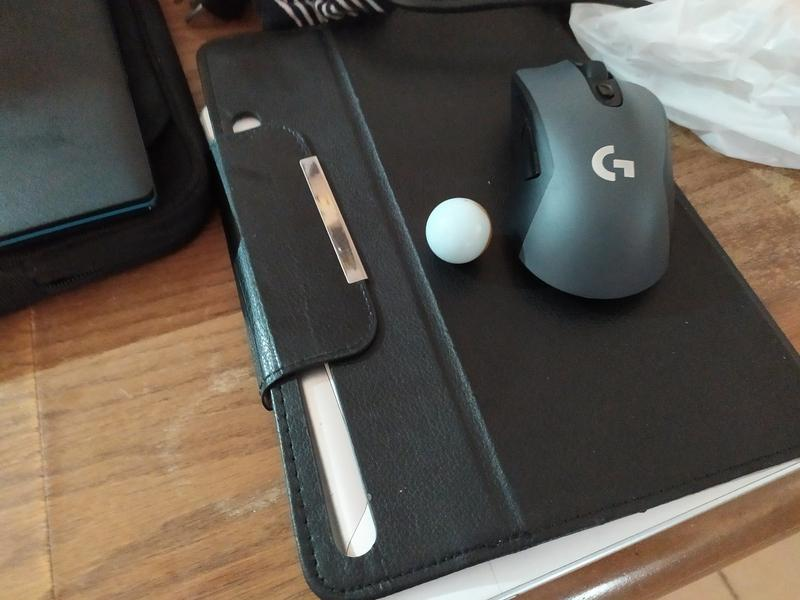Warning: (423, 195, 495, 266)
